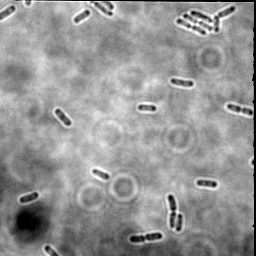Dividing: (224, 101, 255, 119), (128, 230, 164, 245), (166, 192, 179, 230)
Microcolony: (175, 5, 236, 38)
Rod: (53, 106, 73, 128), (168, 76, 196, 89), (89, 166, 111, 182), (194, 177, 219, 190), (17, 190, 40, 204), (71, 9, 91, 25), (137, 102, 158, 113), (175, 212, 185, 234)
